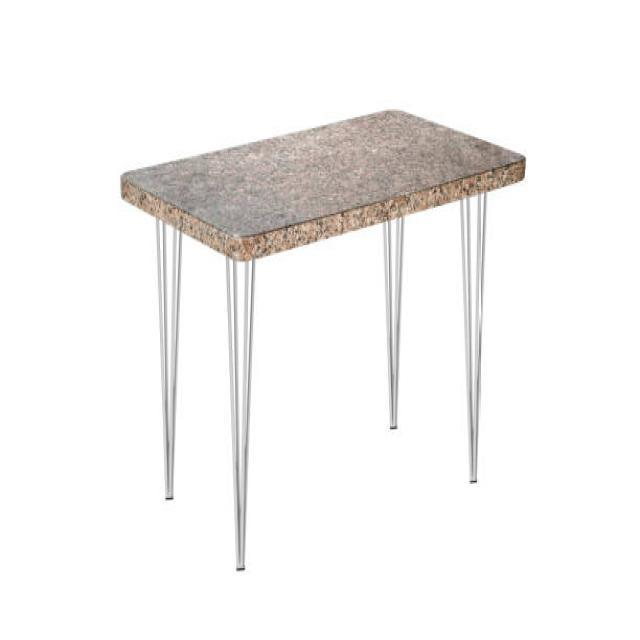table: (119, 106, 526, 570)
